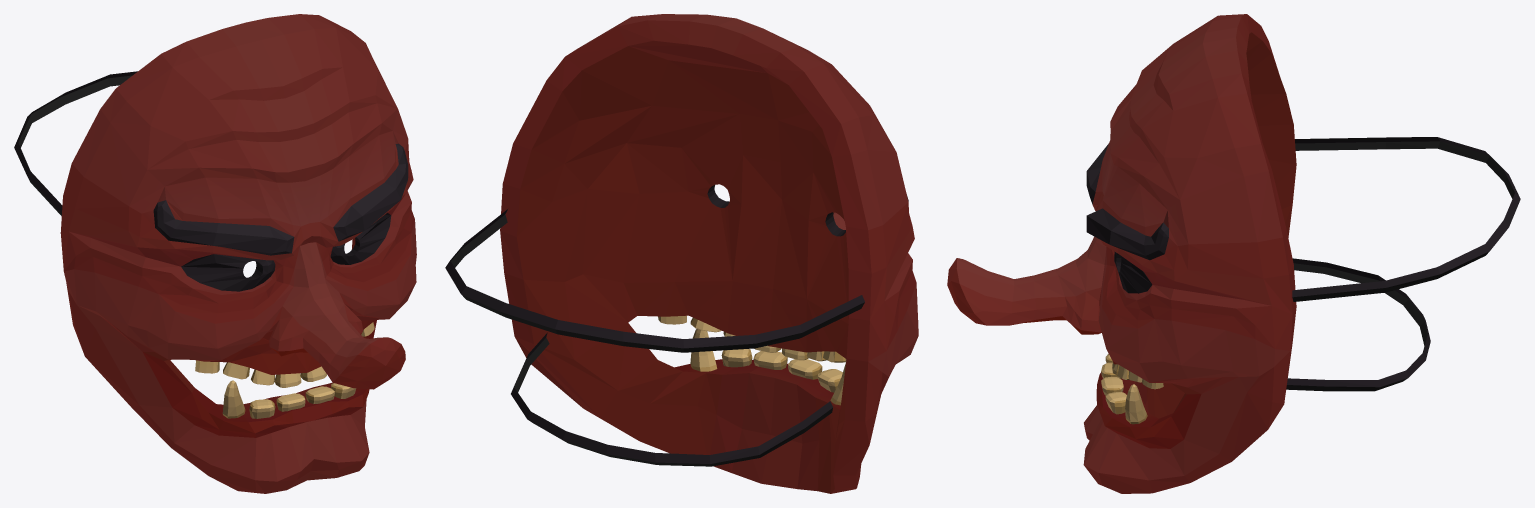
The model's file is tenguMaskFemale.glb.
3 renders of one model, left to right at view 1: azimuth 30°, elevation 25°; view 2: azimuth 150°, elevation 25°; view 3: azimuth 270°, elevation 25°, orthographic. The views are drawn at different scales.
Parts seen in each view (by area): view 1: tenguMask; view 2: tenguMask; view 3: tenguMask.
Boxes of the visible parts, box(x1,y1,x2,y2) form: tenguMask: box(14, 14, 416, 493); tenguMask: box(445, 14, 918, 493); tenguMask: box(947, 14, 1520, 493).
Bounding box in the file's own units: 0.2761 × 0.3377 × 0.4089.
